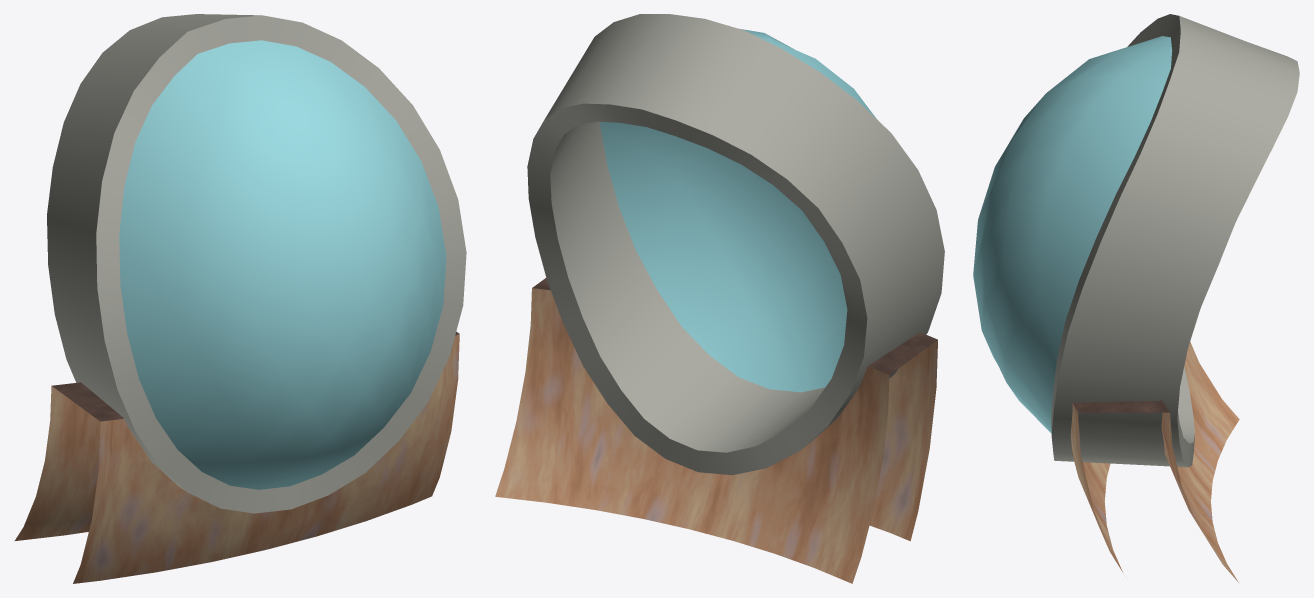
The model's file is FI_017_francos_building_wall_window_big.glb.
3 views of the same model, side by side, from view 1: azimuth 30°, elevation 25°; view 2: azimuth 150°, elevation 25°; view 3: azimuth 270°, elevation 25° (orthographic). The views are drawn at different scales.
Parts seen in each view (by area): view 1: glass_big_out.001, window_frame.001, wall_big_hole.001, glass_big_in.001; view 2: window_frame.001, wall_big_hole.001, glass_big_out.001, glass_big_in.001; view 3: window_frame.001, glass_big_out.001, glass_big_in.001, wall_big_hole.001.
Part boxes in pixels (bbox=[...]): glass_big_out.001: bbox=[119, 40, 446, 489]; window_frame.001: bbox=[47, 14, 466, 513]; wall_big_hole.001: bbox=[14, 331, 459, 583]; glass_big_in.001: bbox=[119, 41, 445, 489]; window_frame.001: bbox=[527, 14, 944, 475]; wall_big_hole.001: bbox=[495, 278, 937, 583]; glass_big_out.001: bbox=[600, 28, 876, 392]; glass_big_in.001: bbox=[601, 30, 869, 391]; window_frame.001: bbox=[1051, 14, 1299, 467]; glass_big_out.001: bbox=[973, 36, 1172, 433]; glass_big_in.001: bbox=[974, 36, 1171, 431]; wall_big_hole.001: bbox=[1070, 342, 1239, 582].
Bounding box in the file's own units: 3.02 × 4 × 2.52.
Materials: 4 (2 with a texture image).
